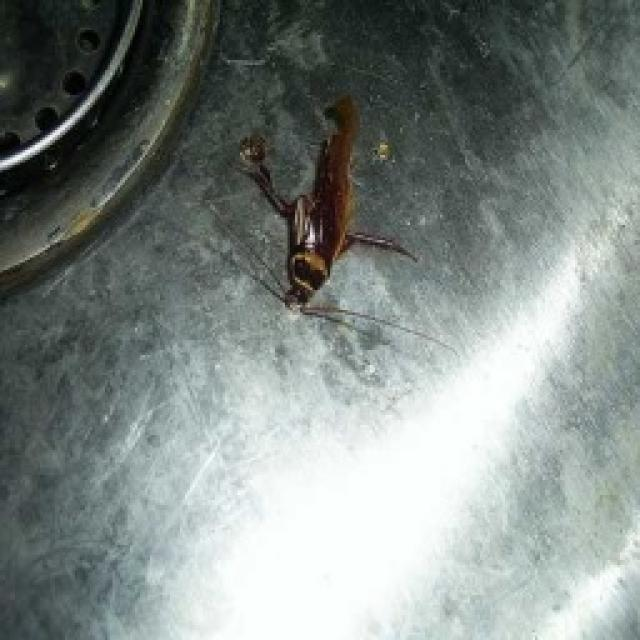cockroach: (252, 104, 394, 330)
